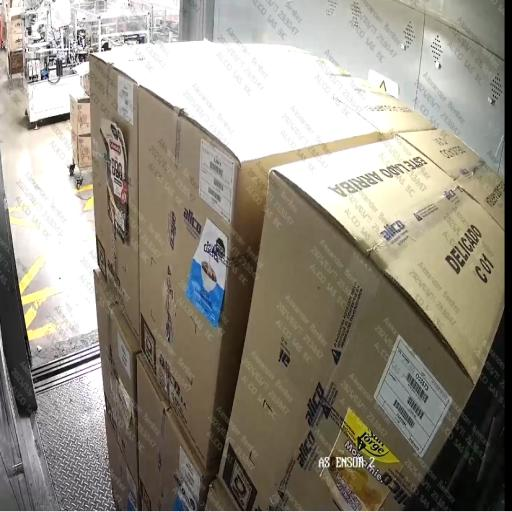Caja no amarrada: (80, 24, 512, 511)
